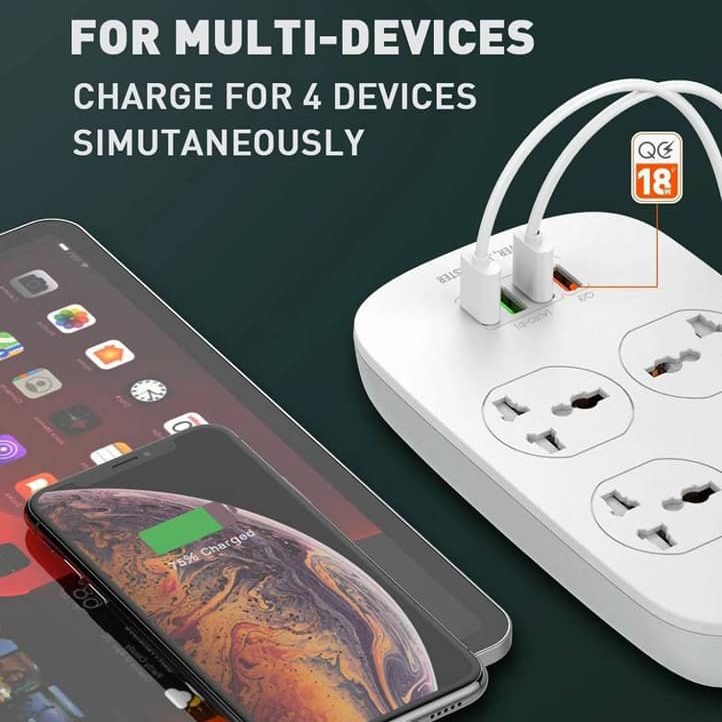Three_eye_plug: (322, 179, 722, 710)
